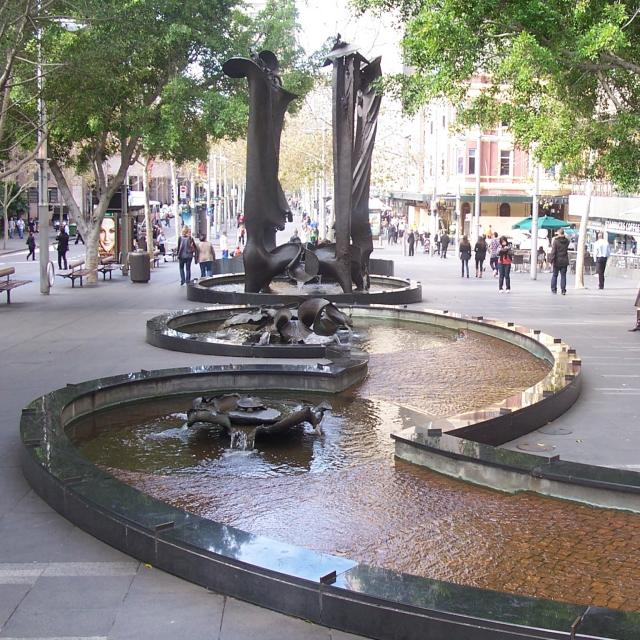body: (286, 194, 336, 242), (380, 208, 432, 240), (548, 227, 571, 296), (176, 226, 197, 285), (496, 235, 514, 294), (592, 231, 610, 290), (194, 234, 216, 279), (96, 217, 116, 258), (487, 231, 502, 279), (54, 227, 70, 270), (458, 234, 472, 279), (612, 234, 638, 258), (628, 284, 640, 332), (474, 236, 486, 278), (156, 230, 170, 262), (25, 231, 37, 261), (481, 233, 490, 272), (439, 229, 450, 259), (432, 229, 443, 258), (219, 232, 229, 260), (508, 240, 520, 261), (15, 217, 26, 239), (396, 220, 406, 244), (406, 227, 414, 257), (537, 246, 547, 269), (412, 226, 420, 253), (237, 224, 246, 247), (478, 224, 487, 245), (74, 228, 85, 245), (289, 228, 302, 242), (8, 217, 16, 239), (387, 223, 395, 245), (308, 229, 318, 246), (381, 217, 389, 238), (60, 221, 70, 237), (163, 210, 171, 228), (392, 221, 398, 244), (28, 218, 36, 234), (422, 227, 432, 239), (236, 211, 242, 229), (424, 239, 431, 251), (488, 224, 494, 238), (234, 246, 242, 256), (238, 212, 244, 225), (584, 245, 590, 257), (32, 219, 36, 234)
